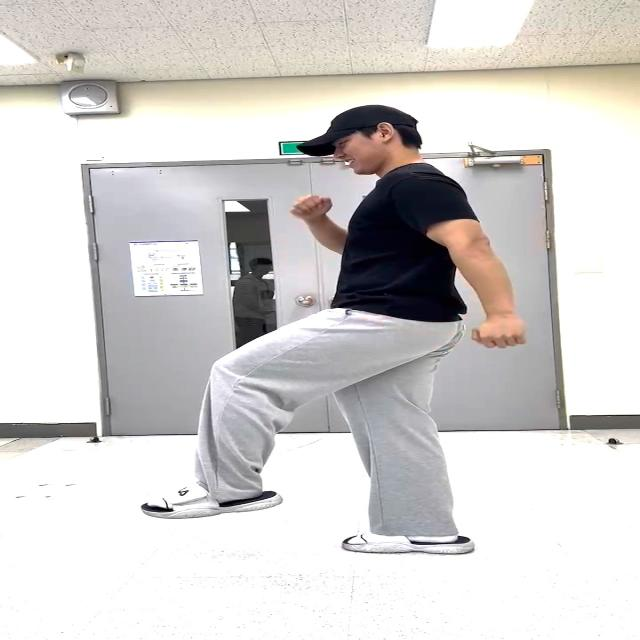leg: (103, 313, 353, 519)
